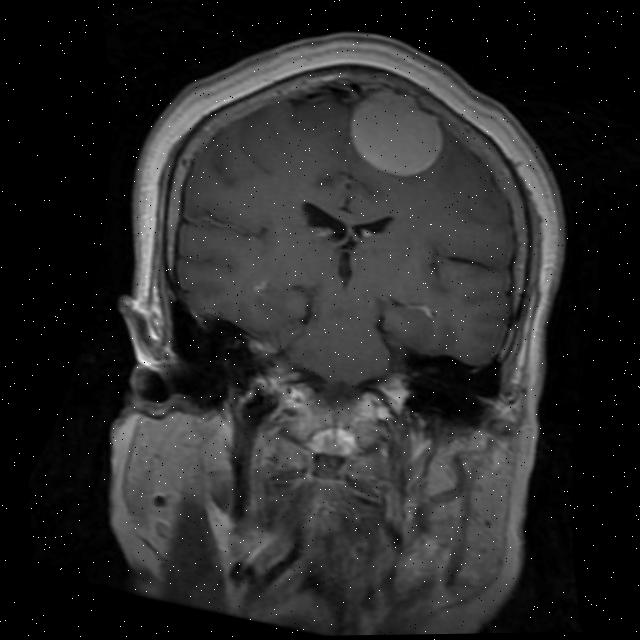Meningioma: (337, 81, 456, 187)
